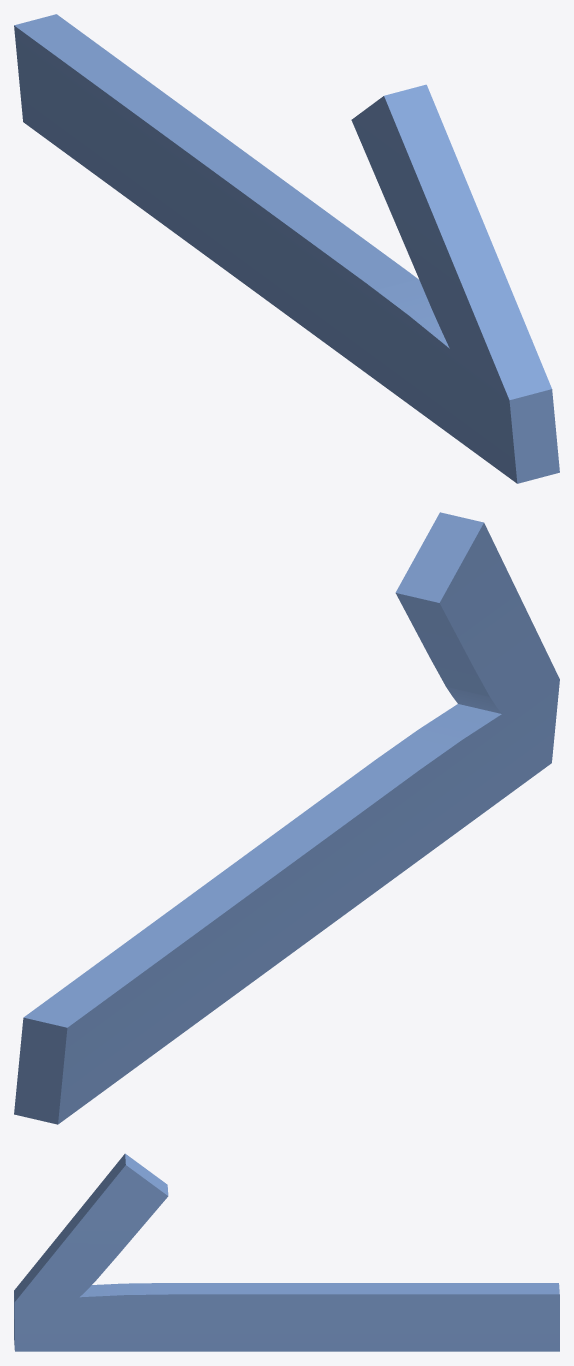
File: New_Number_1.gltf
3 views of the same model, one above another, from view 1: azimuth 30°, elevation 25°; view 2: azimuth 150°, elevation 25°; view 3: azimuth 270°, elevation 25° (orthographic). The views are drawn at different scales.
Parts seen in each view (by area): view 1: Part 262; view 2: Part 262; view 3: Part 262.
Part boxes in pixels (bbox=[...]): Part 262: bbox=[14, 14, 559, 483]; Part 262: bbox=[14, 512, 559, 1124]; Part 262: bbox=[14, 1153, 559, 1351].
Bounding box in the file's own units: 0.000448 × 0.00181 × 0.00505.
